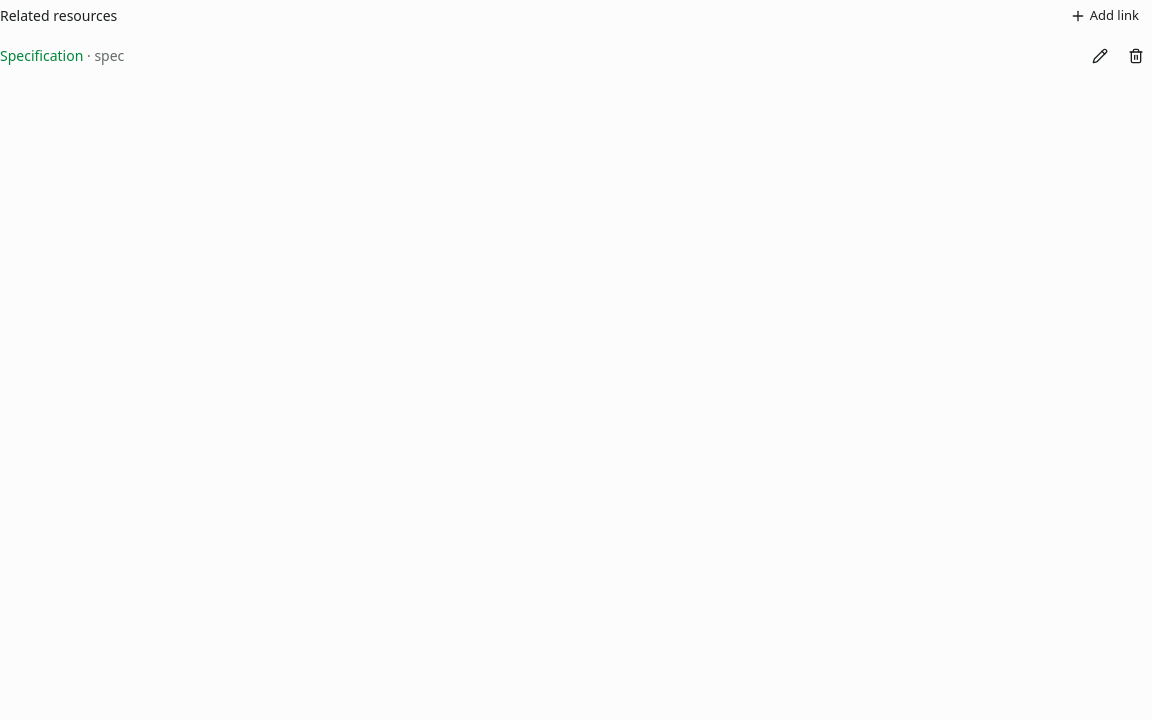
Scenario: TaskLinksEditor › localizes the related-resource section and add-link dialog in English
Expected: the heading "Related resources" is shown, [0, 6, 117, 26]
Click the button "Add link" at point(1104, 16), box [1057, 0, 1151, 32]
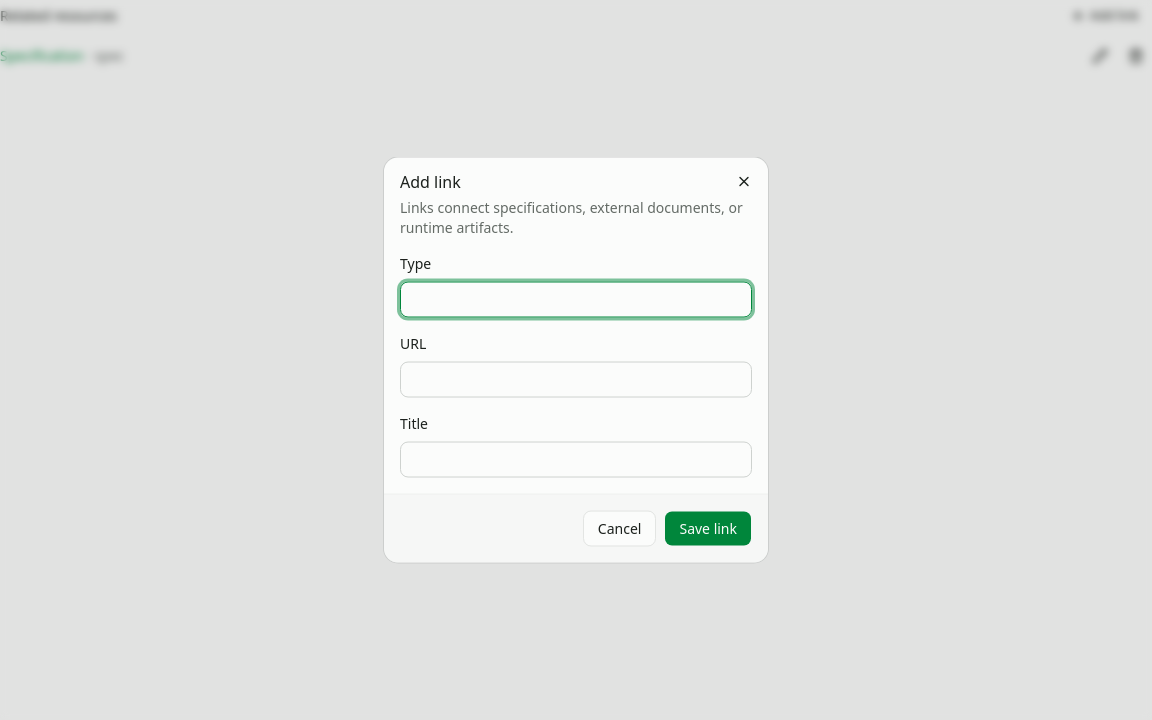
Expected: the dialog "Add link" is shown, [384, 158, 768, 562]
Expected: the text "Links connect specifications, external documents, or runtime artifacts." is shown, [400, 198, 752, 238]
